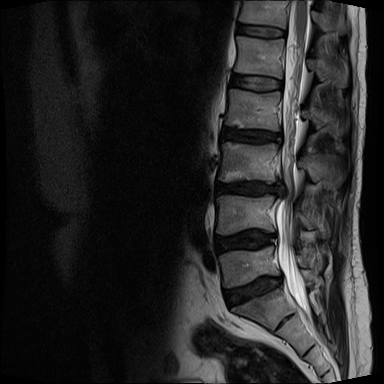Degenerative Disc Disease (DDD): (213, 122, 285, 150)
Lumbar Disc Bulge (LDB): (216, 267, 286, 314), (209, 225, 283, 263), (203, 173, 293, 204)
Normal IVD: (223, 67, 286, 98), (231, 20, 290, 43)
Spinal Stenosis (SS): (268, 173, 292, 207)
